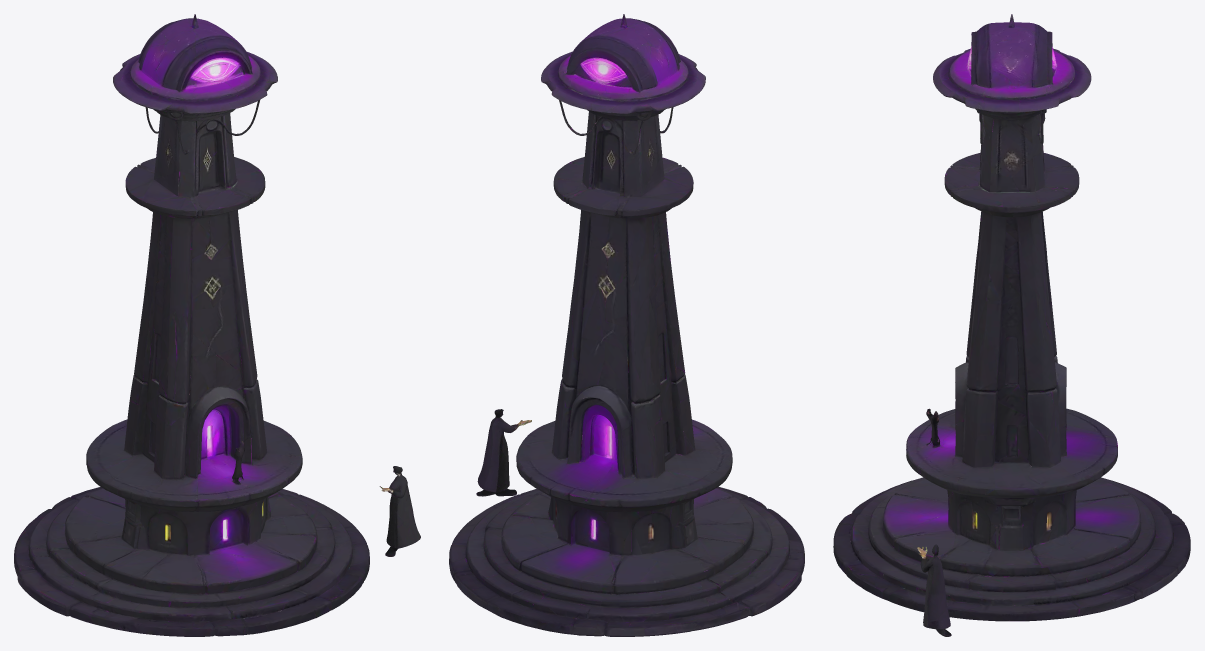
Rendered from bld-neon-observatory.glb.
3 renders of one model, left to right at view 1: azimuth 30°, elevation 25°; view 2: azimuth 150°, elevation 25°; view 3: azimuth 270°, elevation 25°, orthographic. The views are drawn at different scales.
Visible parts, largest first — view 1: Mesh_0; view 2: Mesh_0; view 3: Mesh_0.
Boxes of the visible parts, box(x1,y1,x2,y2) form: Mesh_0: box(14, 14, 420, 636); Mesh_0: box(449, 14, 804, 636); Mesh_0: box(833, 14, 1190, 636).
Bounding box in the file's own units: 1.25 × 1.9 × 1.14.
1 material, 1 textured.
